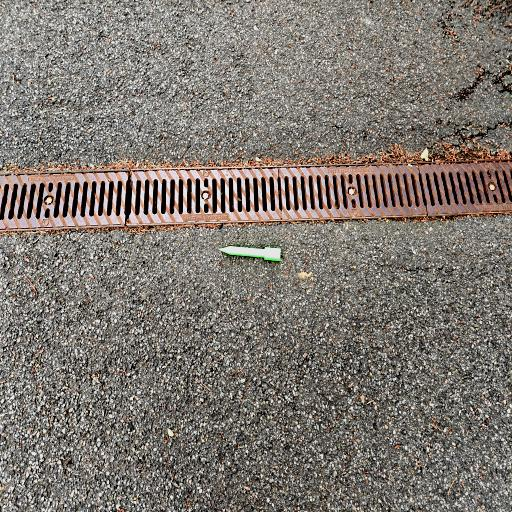Probe-Detection: (219, 246, 280, 261)
